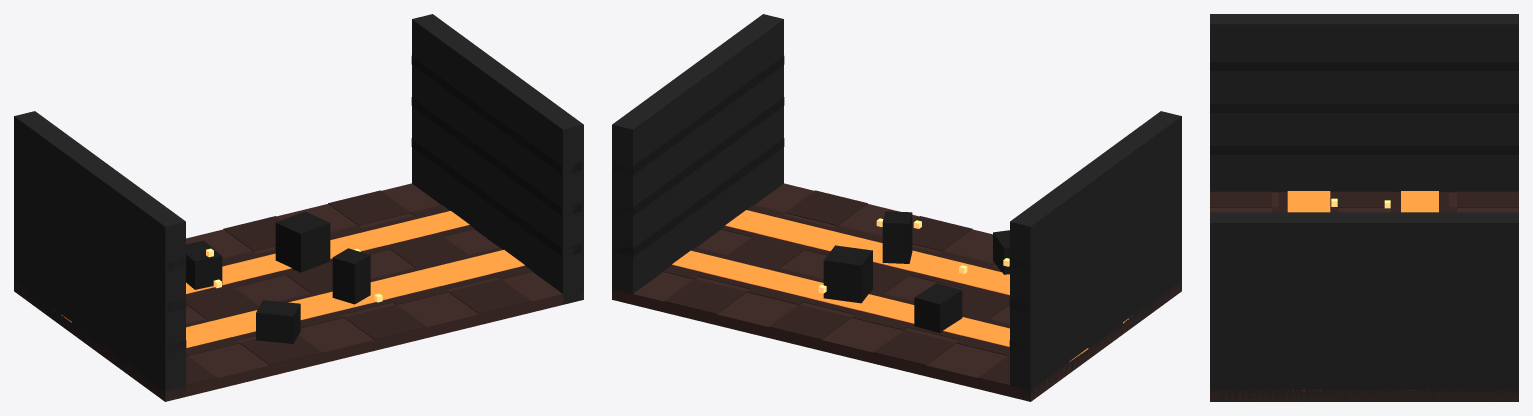
Rendered from ZoneLave.glb.
3 views of the same model, side by side, from view 1: azimuth 30°, elevation 25°; view 2: azimuth 150°, elevation 25°; view 3: azimuth 270°, elevation 25° (orthographic). The views are drawn at different scales.
Parts seen in each view (by area): view 1: ZoneLave__wall, ZoneLave__floor, ZoneLave__floor_alt, ZoneLave__wall_alt, ZoneLave__lava; view 2: ZoneLave__wall, ZoneLave__floor, ZoneLave__floor_alt, ZoneLave__wall_alt, ZoneLave__lava; view 3: ZoneLave__wall, ZoneLave__wall_alt, ZoneLave__floor, ZoneLave__floor_alt, ZoneLave__lava.
Part boxes in pixels (box(x1,y1,x2,y2)): ZoneLave__wall: box(14, 14, 583, 401); ZoneLave__floor: box(14, 183, 583, 401); ZoneLave__floor_alt: box(18, 190, 532, 390); ZoneLave__wall_alt: box(167, 56, 581, 352); ZoneLave__lava: box(61, 211, 524, 347); ZoneLave__wall: box(612, 14, 1181, 401); ZoneLave__floor: box(612, 183, 1181, 401); ZoneLave__floor_alt: box(663, 190, 1147, 390); ZoneLave__wall_alt: box(614, 56, 1028, 351); ZoneLave__lava: box(672, 210, 1132, 361); ZoneLave__wall: box(1210, 14, 1518, 401); ZoneLave__wall_alt: box(1210, 62, 1518, 154); ZoneLave__floor: box(1210, 192, 1518, 401); ZoneLave__floor_alt: box(1210, 191, 1518, 390); ZoneLave__lava: box(1287, 191, 1438, 390).
Size of the model in its own units: 40 by 16 by 25.
